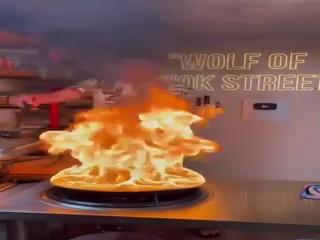Fire: (32, 61, 211, 194)
